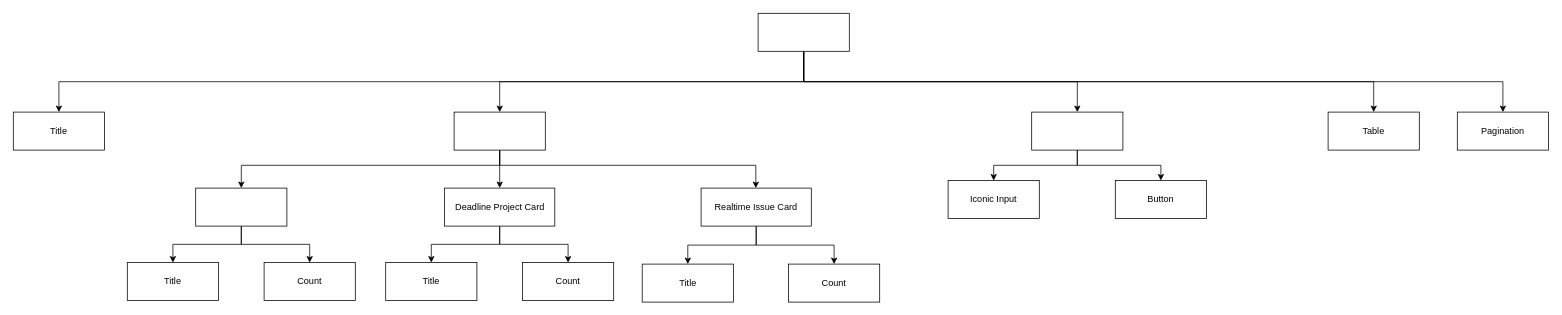
Some shapes in this 1562 by 315 pixel diagram are drawn without their labels. The shapes that lost their labels are listed below. From the top down, each one's centre as x and y in pixels, then its label:
point (803, 32): div
point (499, 130): Project Card
point (1077, 130): Search
point (241, 206): Total Project Card
